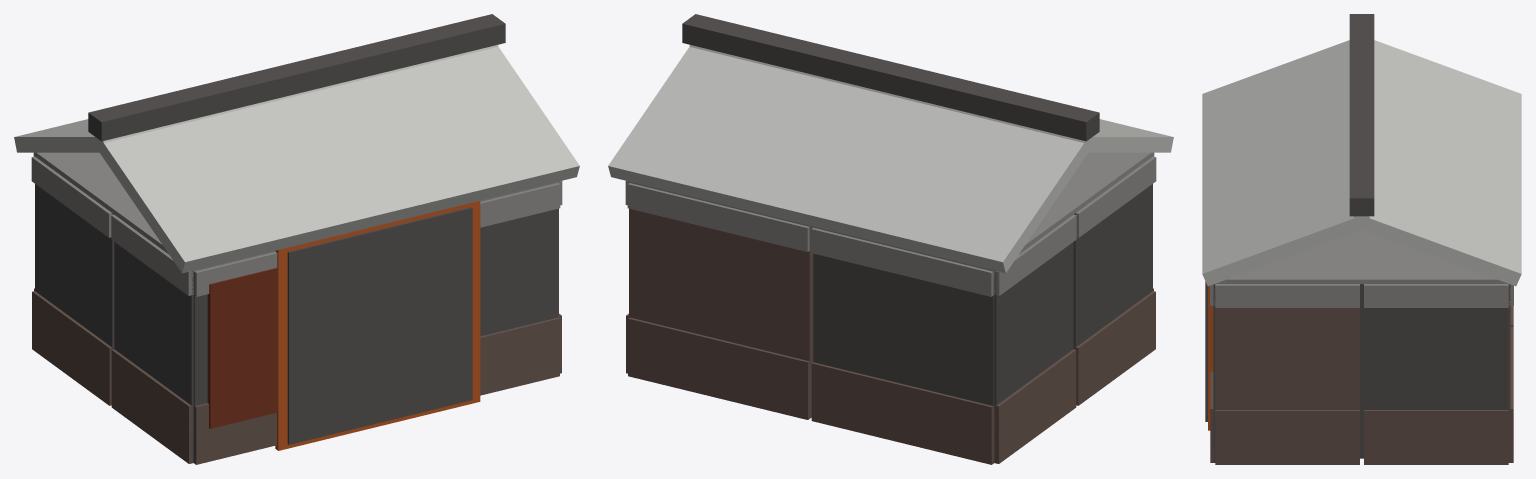
Rendered from B_shed_b.glb.
The picture shows the model from 3 angles, left to right: view 1: azimuth 30°, elevation 25°; view 2: azimuth 150°, elevation 25°; view 3: azimuth 270°, elevation 25°; orthographic projection. The views are drawn at different scales.
Parts seen in each view (by area): view 1: Cube.029, Cube.028, Cube.031, Cube.024, Cube.012, Cube.015, Cube.003, Cube.027, Cube.013, Cube.016, Cube.004, Cube.026 (+7 smaller); view 2: Cube.030, Cube.009, Cube.006, Cube.031, Cube.007, Cube.010, Cube.015, Cube.012, Cube.016, Cube.013, Cube.008, Cube.011 (+4 smaller); view 3: Cube.029, Cube.030, Cube.018, Cube.021, Cube.026, Cube.019, Cube.022, Cube.031, Cube.020, Cube.023, Cube.025, Cube.027 (+5 smaller).
Part boxes in pixels (x1=…): Cube.029: x1=93, y1=47, x2=579, y2=273; Cube.028: x1=287, y1=207, x2=472, y2=444; Cube.031: x1=88, y1=14, x2=505, y2=141; Cube.024: x1=207, y1=267, x2=277, y2=428; Cube.012: x1=114, y1=242, x2=193, y2=463; Cube.015: x1=35, y1=184, x2=114, y2=349; Cube.003: x1=480, y1=209, x2=558, y2=336; Cube.027: x1=275, y1=201, x2=480, y2=450; Cube.013: x1=111, y1=349, x2=193, y2=463; Cube.016: x1=32, y1=291, x2=112, y2=405; Cube.004: x1=480, y1=317, x2=559, y2=395; Cube.026: x1=33, y1=152, x2=560, y2=271; Cube.030: x1=608, y1=47, x2=1094, y2=273; Cube.009: x1=629, y1=209, x2=813, y2=418; Cube.006: x1=813, y1=253, x2=994, y2=462; Cube.031: x1=682, y1=14, x2=1099, y2=141; Cube.007: x1=811, y1=362, x2=994, y2=464; Cube.010: x1=628, y1=317, x2=809, y2=419; Cube.015: x1=994, y1=242, x2=1073, y2=452; Cube.012: x1=1073, y1=184, x2=1152, y2=349; Cube.016: x1=994, y1=349, x2=1076, y2=463; Cube.013: x1=1075, y1=291, x2=1155, y2=405; Cube.008: x1=811, y1=227, x2=994, y2=296; Cube.011: x1=627, y1=183, x2=811, y2=251; Cube.029: x1=1202, y1=40, x2=1372, y2=286; Cube.030: x1=1351, y1=40, x2=1521, y2=286; Cube.018: x1=1215, y1=308, x2=1359, y2=409; Cube.021: x1=1364, y1=308, x2=1508, y2=409; Cube.026: x1=1215, y1=230, x2=1508, y2=283; Cube.019: x1=1215, y1=410, x2=1359, y2=464; Cube.022: x1=1364, y1=410, x2=1508, y2=464; Cube.031: x1=1349, y1=14, x2=1374, y2=216; Cube.020: x1=1215, y1=284, x2=1359, y2=307; Cube.023: x1=1364, y1=284, x2=1508, y2=307; Cube.025: x1=1360, y1=284, x2=1363, y2=458; Cube.027: x1=1208, y1=286, x2=1213, y2=430.
Size of the model in its own units: 8.8 by 6.2 by 6.45.
